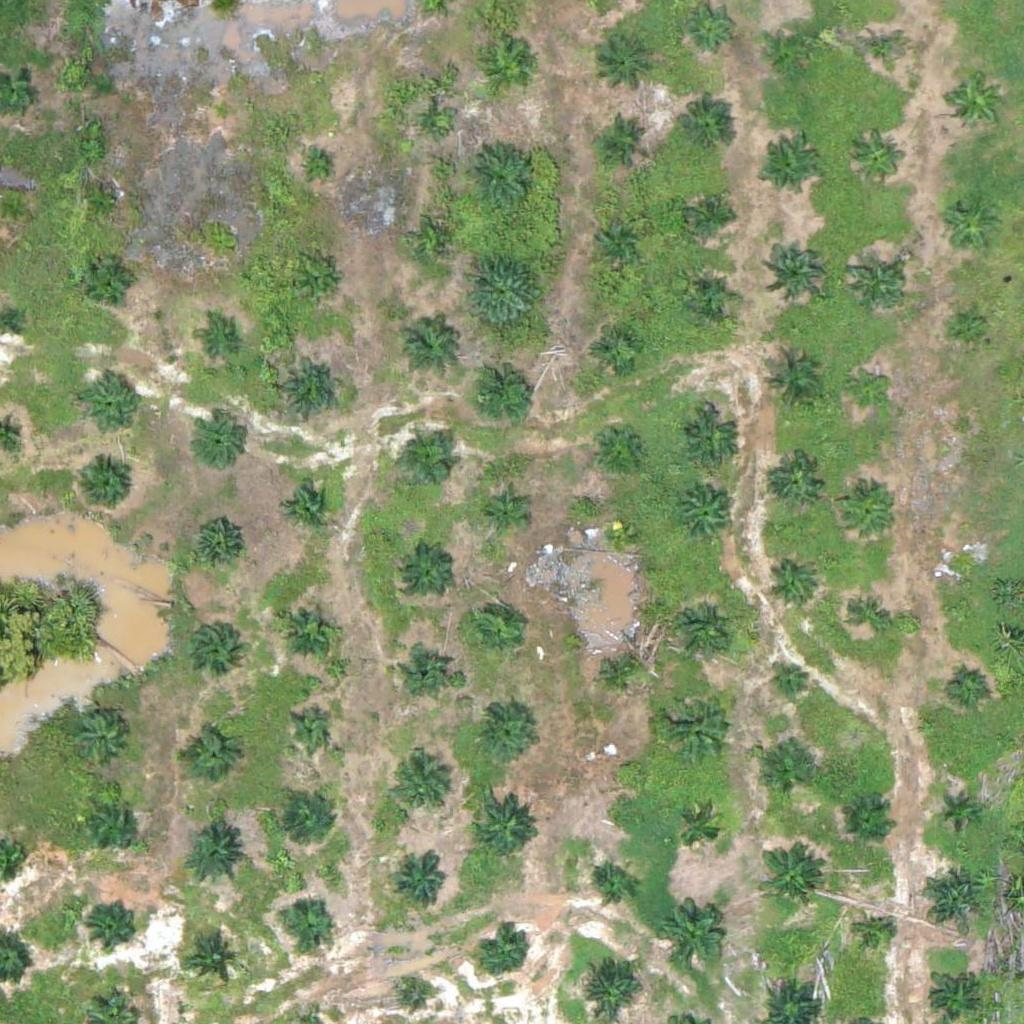Kelapa_Sawit: (462, 139, 537, 215), (466, 357, 541, 433), (661, 683, 736, 759), (466, 253, 541, 329), (921, 862, 984, 925), (658, 903, 721, 966), (395, 312, 458, 375), (937, 194, 1000, 257), (680, 408, 743, 471), (183, 826, 246, 889), (280, 358, 343, 421), (596, 32, 659, 95), (944, 71, 1007, 134), (675, 101, 738, 164), (759, 139, 821, 202), (757, 844, 819, 907), (474, 792, 536, 855), (392, 755, 454, 818), (672, 600, 734, 663), (760, 352, 822, 415), (847, 253, 909, 316), (763, 236, 825, 299), (471, 702, 533, 765), (74, 455, 136, 518), (278, 597, 340, 660), (78, 373, 140, 436), (577, 957, 639, 1020), (677, 487, 739, 549), (853, 132, 903, 183), (281, 893, 331, 944), (285, 794, 335, 845), (183, 731, 233, 782), (194, 417, 244, 468), (77, 716, 127, 767), (88, 799, 138, 850), (88, 897, 138, 948), (188, 936, 238, 987), (191, 518, 241, 569), (282, 482, 332, 533), (84, 254, 134, 305), (857, 26, 907, 77), (769, 24, 819, 75), (687, 1, 737, 52), (396, 859, 446, 909), (477, 926, 527, 976), (403, 643, 453, 693), (406, 437, 456, 487), (402, 547, 452, 597), (592, 420, 642, 470), (591, 324, 641, 374), (773, 455, 823, 505), (843, 487, 893, 537), (756, 750, 806, 800), (469, 603, 519, 653), (188, 621, 238, 671), (484, 45, 534, 95), (926, 972, 976, 1022), (842, 797, 892, 847), (673, 806, 723, 856), (588, 863, 638, 913), (596, 646, 646, 696), (685, 190, 735, 240), (687, 274, 737, 324), (593, 210, 643, 260), (598, 115, 648, 165), (768, 559, 818, 609), (484, 493, 522, 531), (197, 323, 235, 361), (858, 918, 896, 956), (771, 661, 809, 699), (848, 372, 886, 410), (946, 555, 984, 593), (852, 597, 890, 635), (302, 266, 339, 304), (937, 793, 974, 831), (951, 669, 989, 706), (291, 710, 328, 748), (86, 184, 123, 222), (951, 309, 988, 346), (424, 230, 449, 256), (402, 979, 427, 1004), (422, 113, 447, 138), (305, 156, 330, 181), (605, 521, 630, 546), (612, 756, 637, 781), (211, 101, 236, 126)
